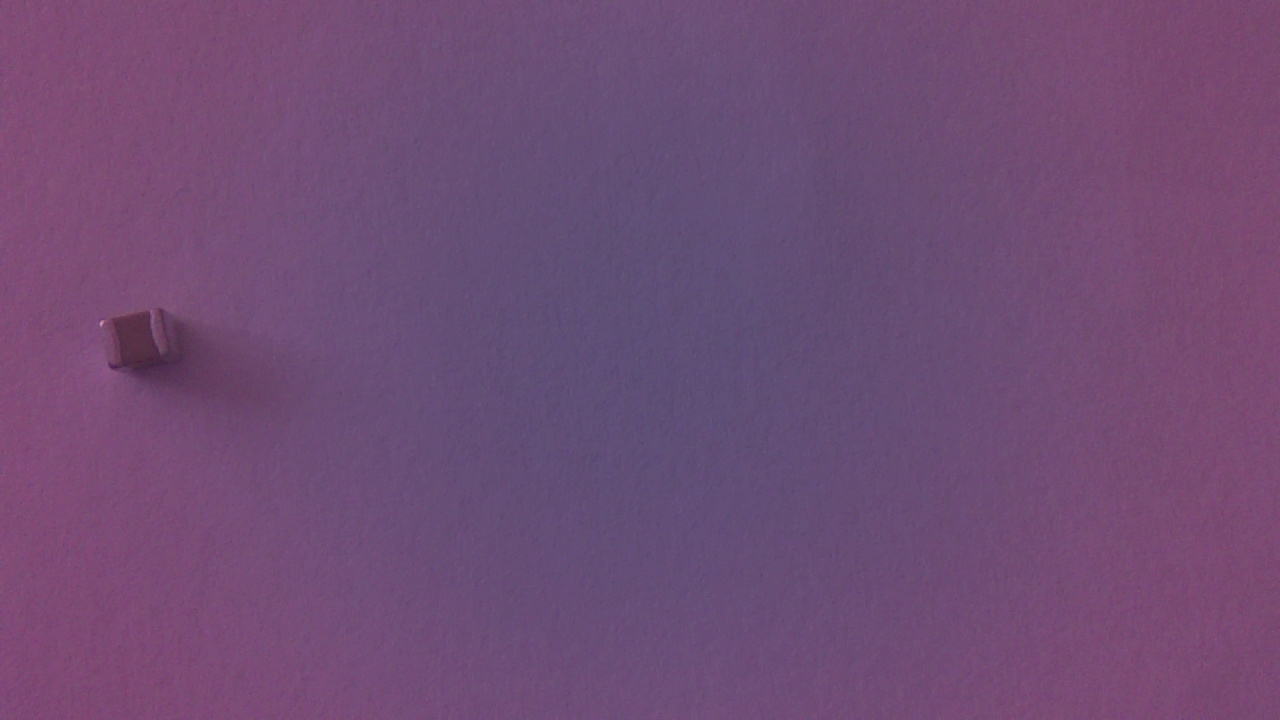Condensator: (99, 305, 187, 384)
